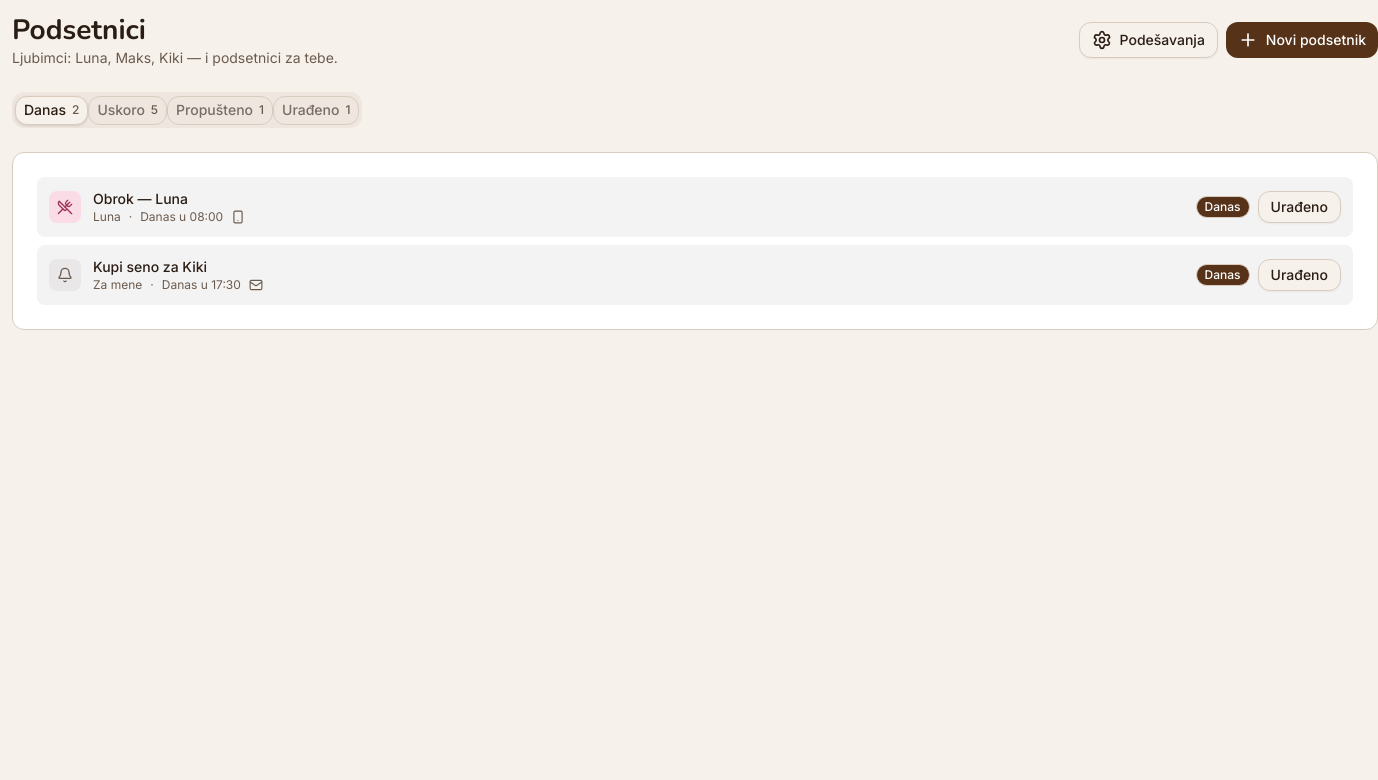
Test: S10 — tabs (EP-25) › Uskoro rows show date and time; Propušteno shows the note
The width and height of the screenshot is (1378, 780).
Click the tab "Uskoro 5": (128, 110) [88, 96, 167, 124]
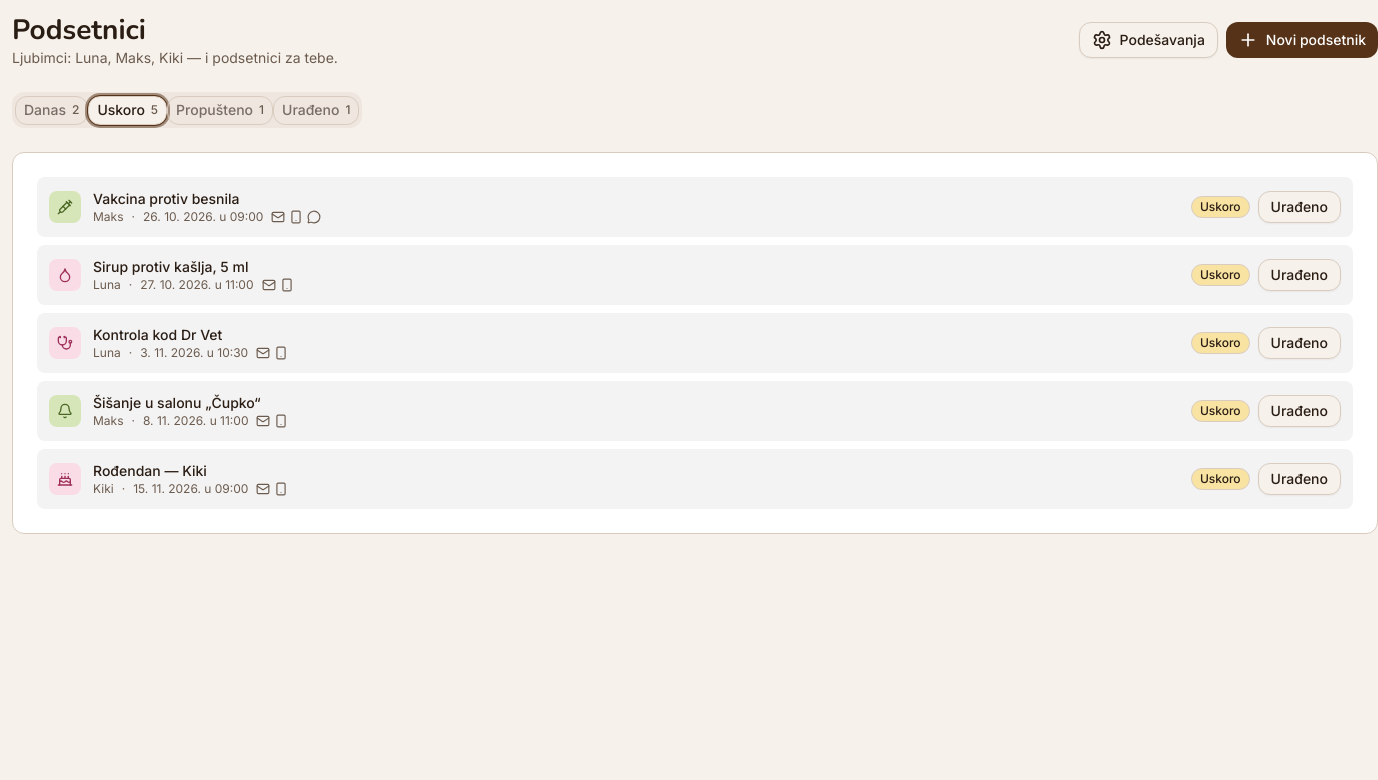
Expected: the text "26. 10. 2026. u 09:00" is shown, [143, 209, 263, 225]
Expected: the text "Rođendan — Kiki" is shown, [93, 462, 207, 479]
Click the tab "Propušteno 1": (220, 110) [167, 96, 273, 124]
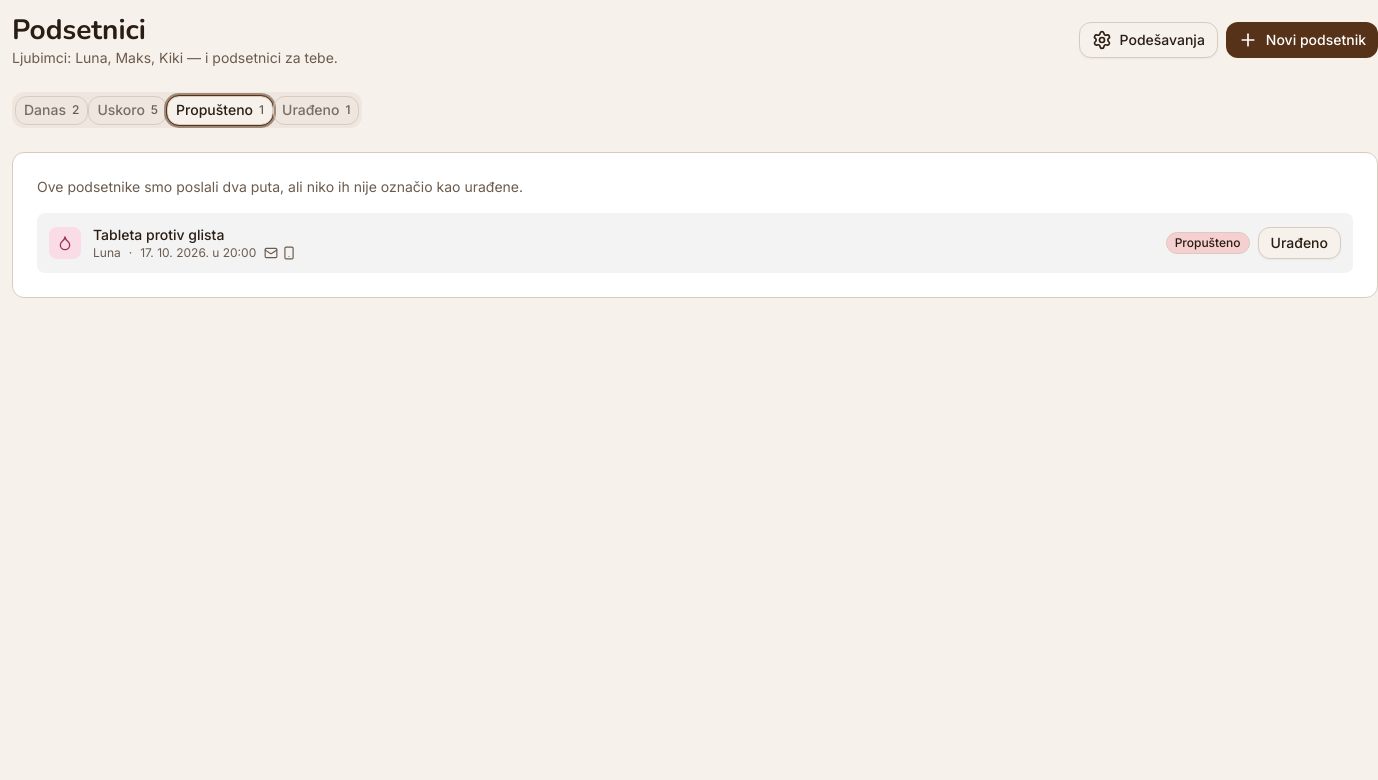
Expected: the text "Ove podsetnike smo poslali dva puta" is shown, [37, 178, 523, 195]
Expected: the text "17. 10. 2026. u 20:00" is shown, [140, 245, 256, 261]
